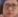without_mask: (2, 1, 18, 17)
